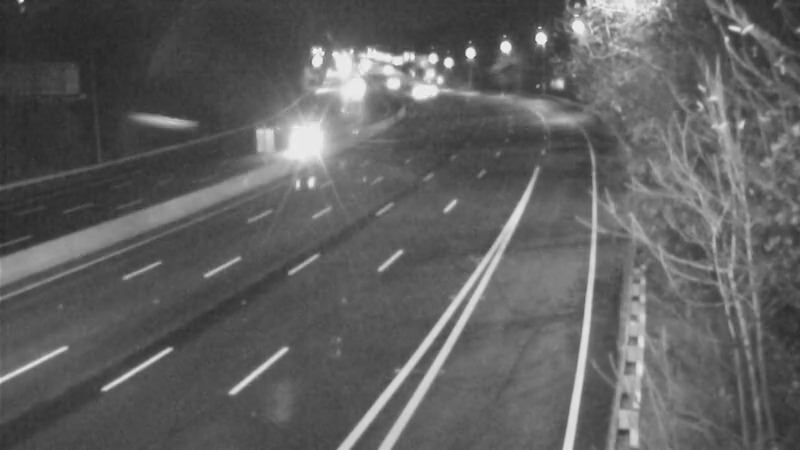vehicle: (399, 68, 449, 118), (288, 111, 338, 161)
